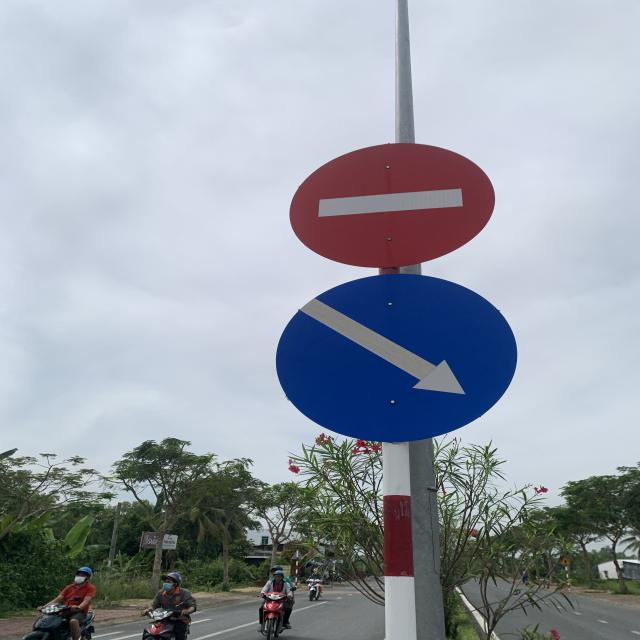Cam_Di_Nguoc_Chieu: (289, 143, 499, 270)
Chi_Huong_Di_Phai: (277, 274, 518, 440)
